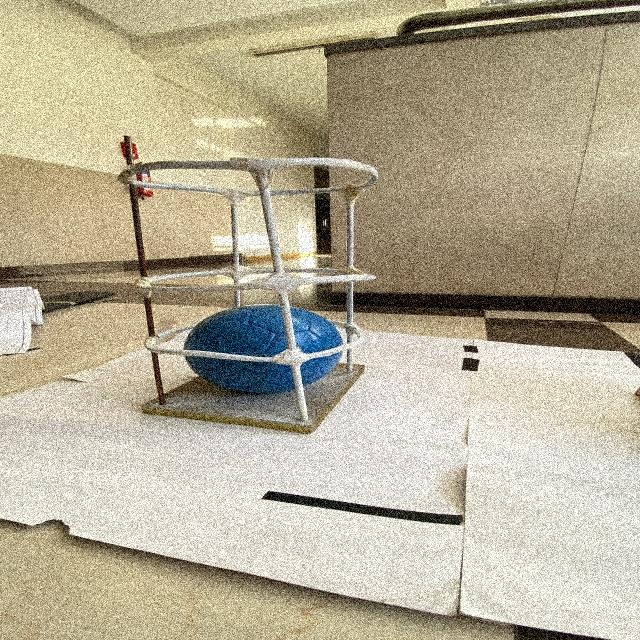blue_ball: (185, 304, 337, 397)
silo: (119, 150, 370, 438)
